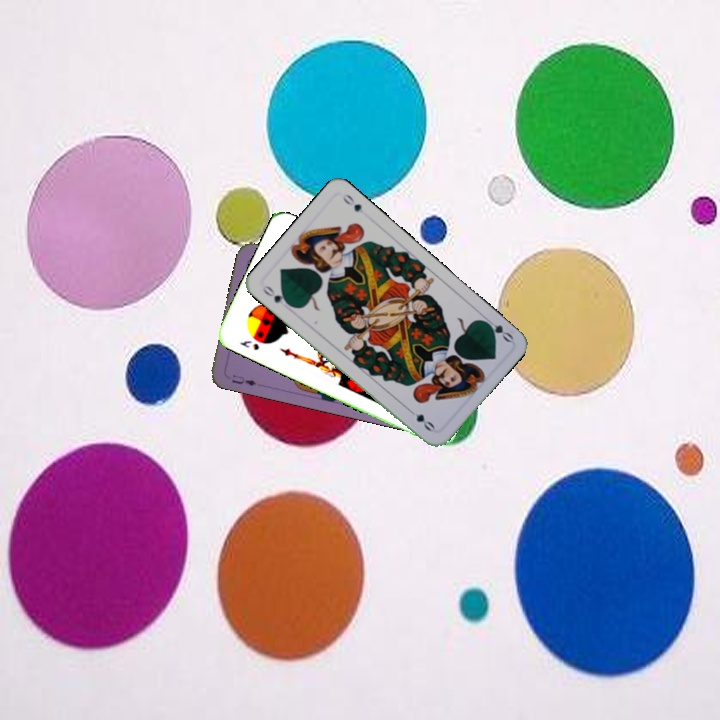EU: (228, 371, 259, 389)
GO: (479, 313, 516, 345), (258, 281, 294, 309)
SK: (235, 336, 262, 353)
